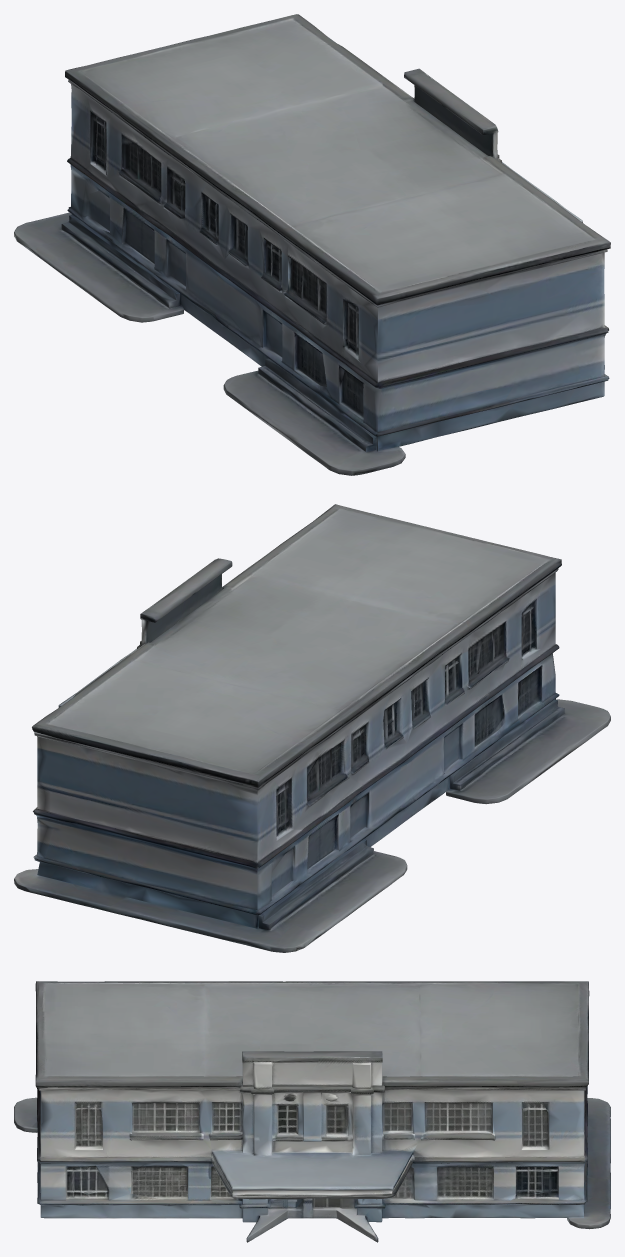
The model's file is bld_police_station.glb.
3 renders of one model, top to bottom at view 1: azimuth 30°, elevation 25°; view 2: azimuth 150°, elevation 25°; view 3: azimuth 270°, elevation 25°, orthographic. The views are drawn at different scales.
Parts seen in each view (by area): view 1: tripo_node_40dca4ed-ff64-43e8-8f11-0ae9e38a90a8; view 2: tripo_node_40dca4ed-ff64-43e8-8f11-0ae9e38a90a8; view 3: tripo_node_40dca4ed-ff64-43e8-8f11-0ae9e38a90a8.
Boxes of the visible parts, bbox=[...] form: tripo_node_40dca4ed-ff64-43e8-8f11-0ae9e38a90a8: bbox=[14, 14, 610, 475]; tripo_node_40dca4ed-ff64-43e8-8f11-0ae9e38a90a8: bbox=[14, 504, 610, 952]; tripo_node_40dca4ed-ff64-43e8-8f11-0ae9e38a90a8: bbox=[14, 981, 610, 1242].
Bounding box in the file's own units: 0.6127 × 0.3039 × 0.9794.
Materials: 1 (1 with a texture image).
